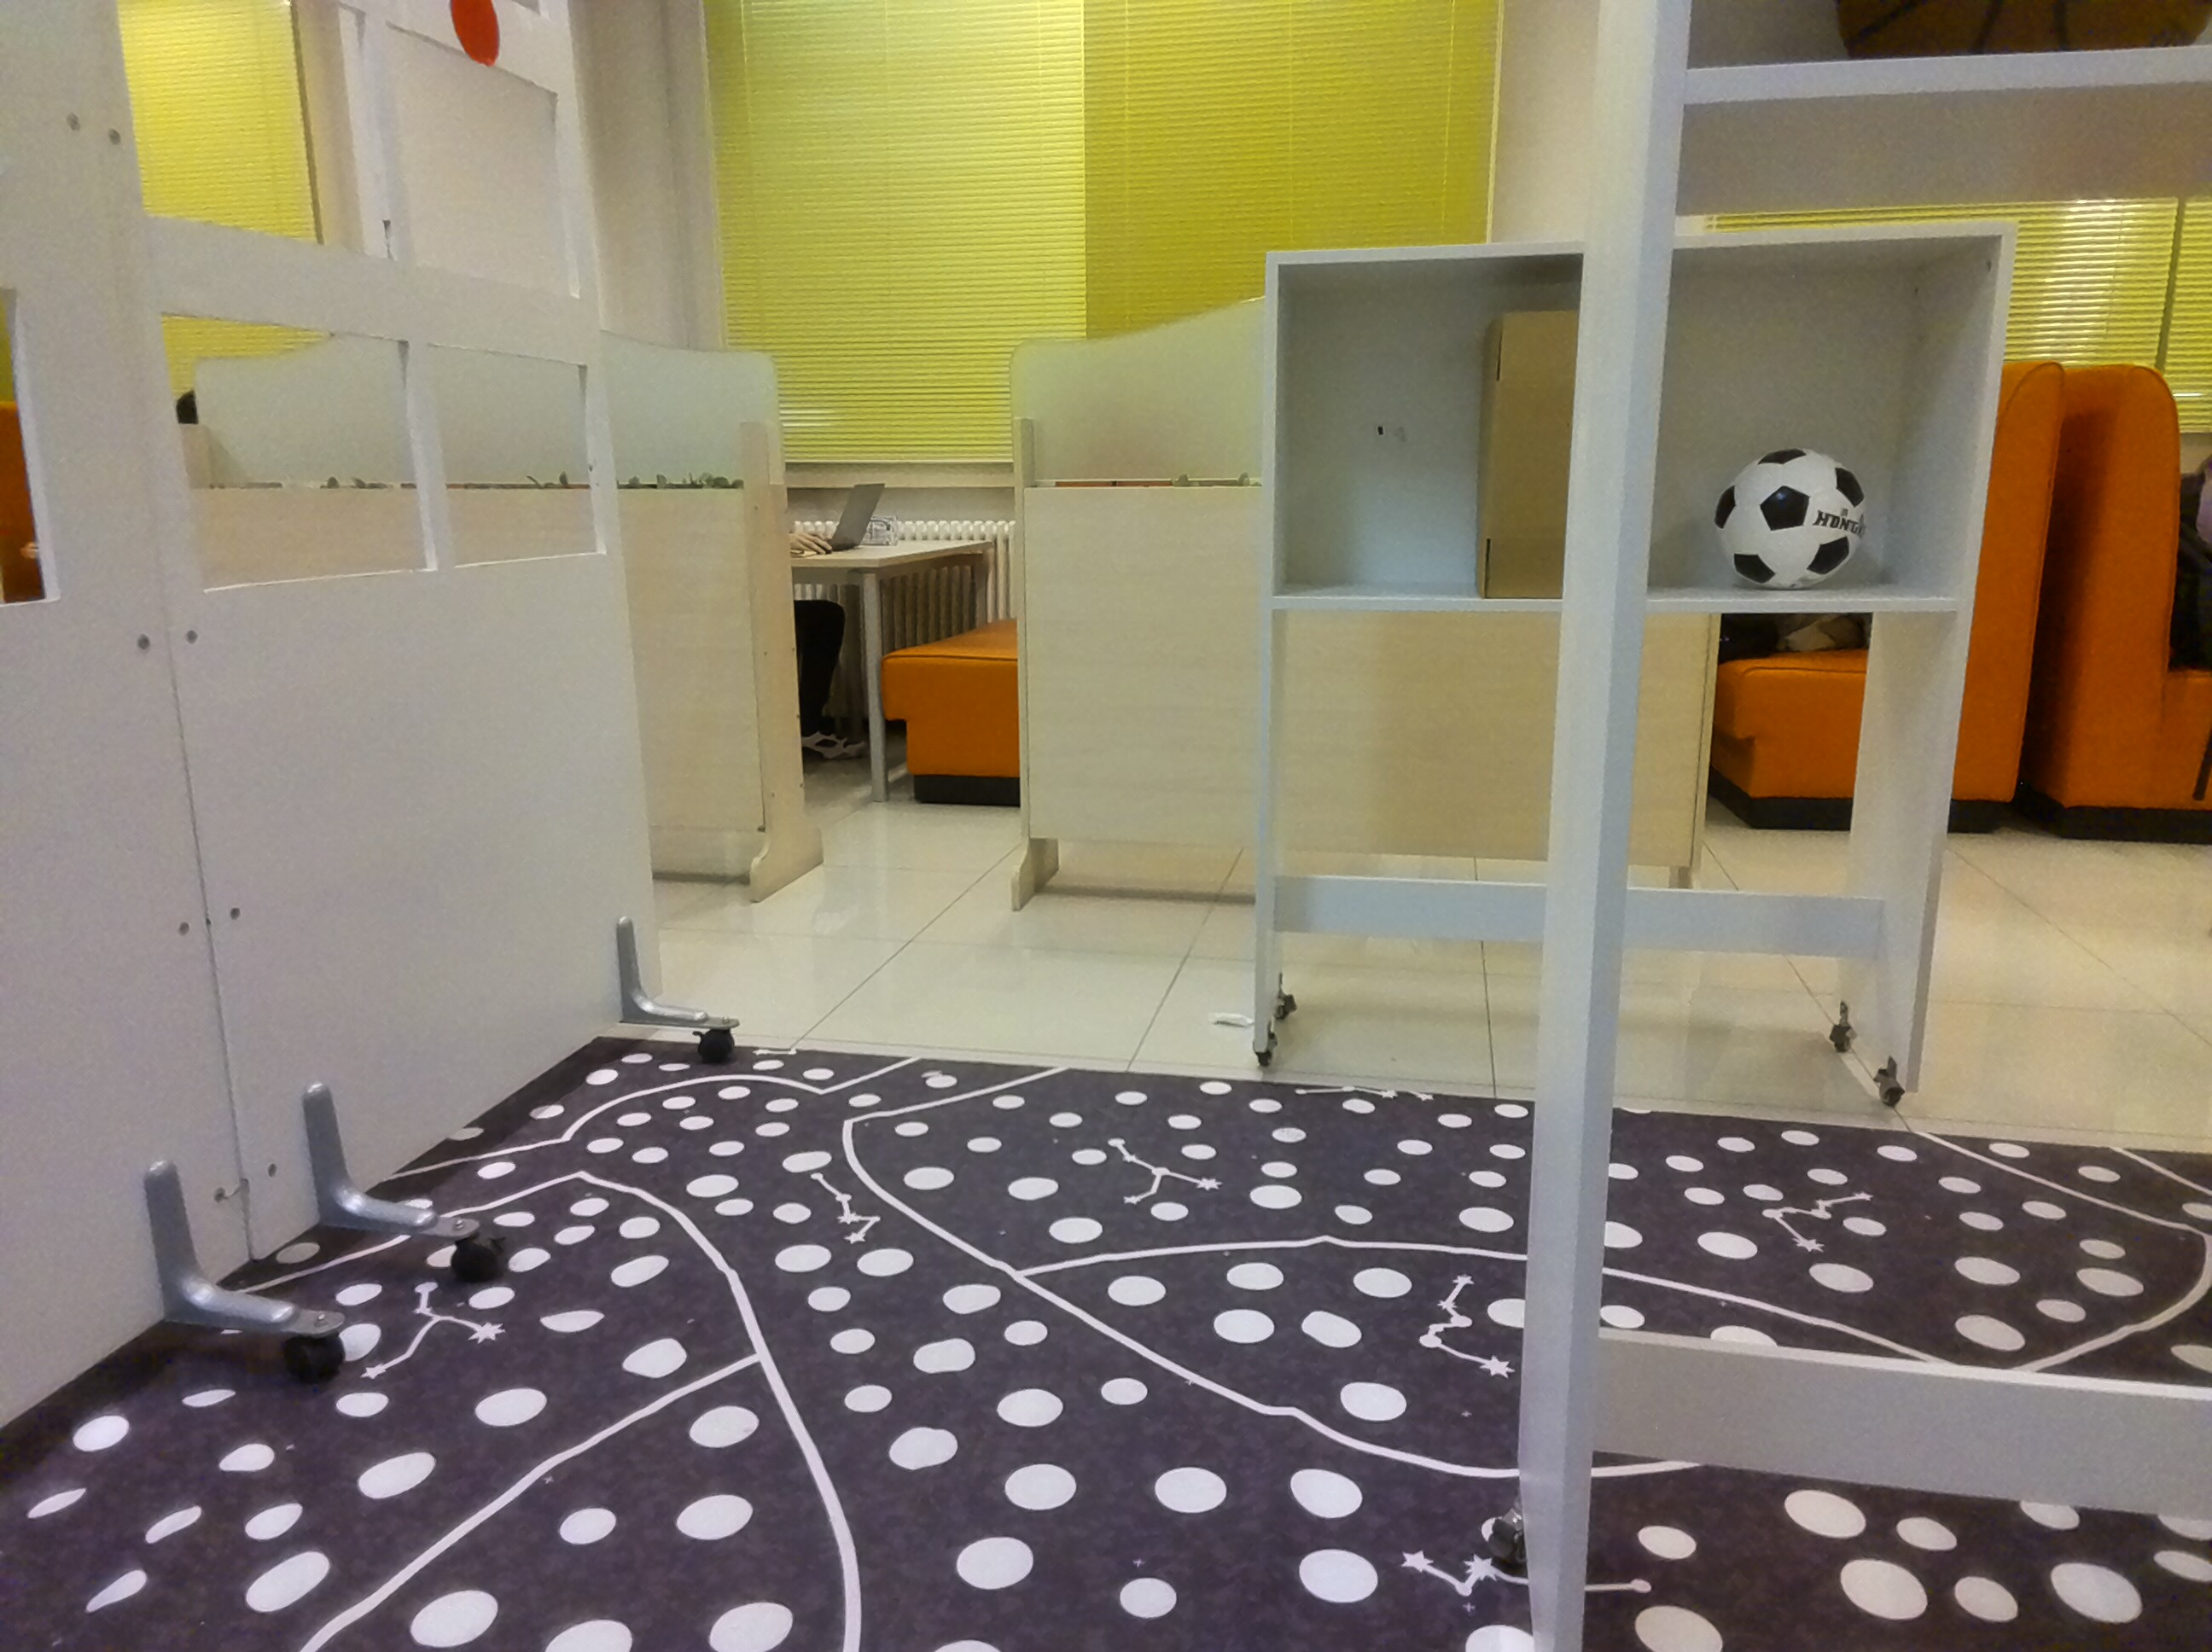football: (1707, 436, 1874, 597)
